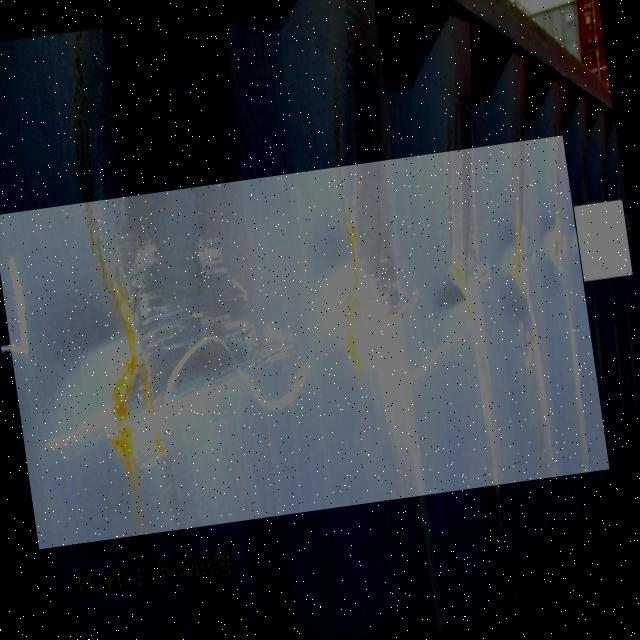Dent: (0, 135, 609, 549)
